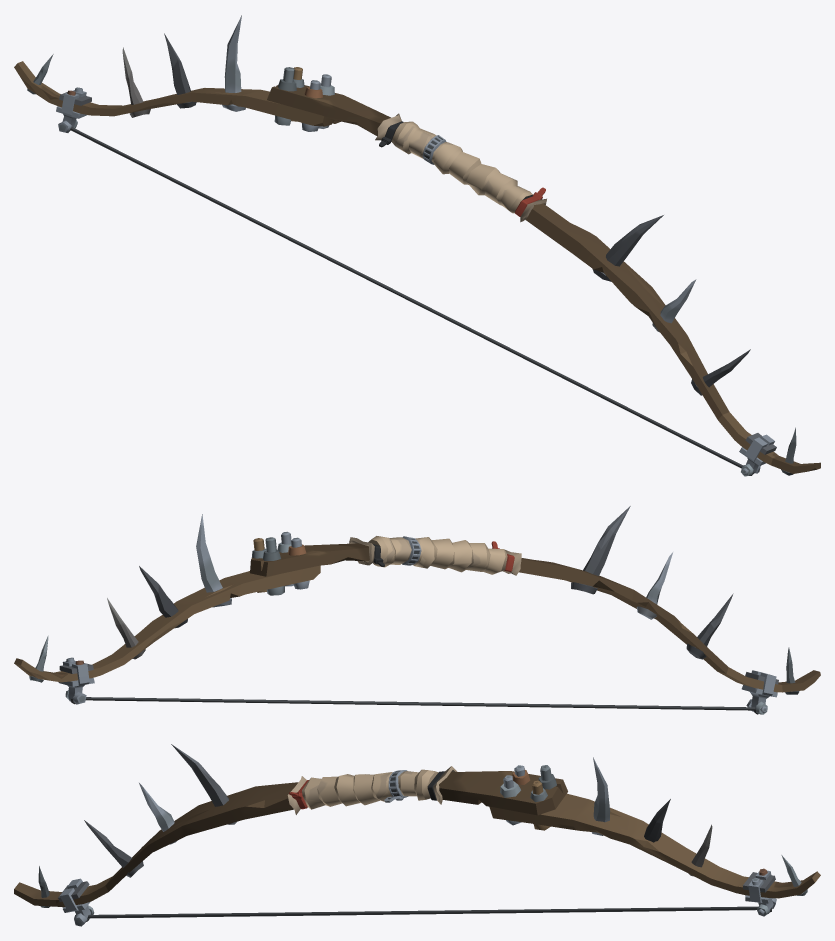
File: bw-recurve-06.glb
3 renders of one model, top to bottom at view 1: azimuth 90°, elevation 25°; view 2: azimuth 150°, elevation 25°; view 3: azimuth 270°, elevation 25°, orthographic.
Parts seen in each view (by area): view 1: bw-recurve-06; view 2: bw-recurve-06; view 3: bw-recurve-06.
Boxes of the visible parts, x1,y1,x2,y2 form: bw-recurve-06: (14,15,820,476); bw-recurve-06: (14,506,820,714); bw-recurve-06: (14,744,820,926).
Bounding box in the file's own units: 0.8595 × 0.6259 × 1.46.
Materials: 1 (1 with a texture image).
